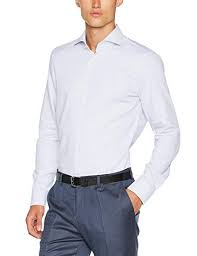F_belt: (51, 168, 139, 184)
F_shirt: (31, 25, 183, 215)
